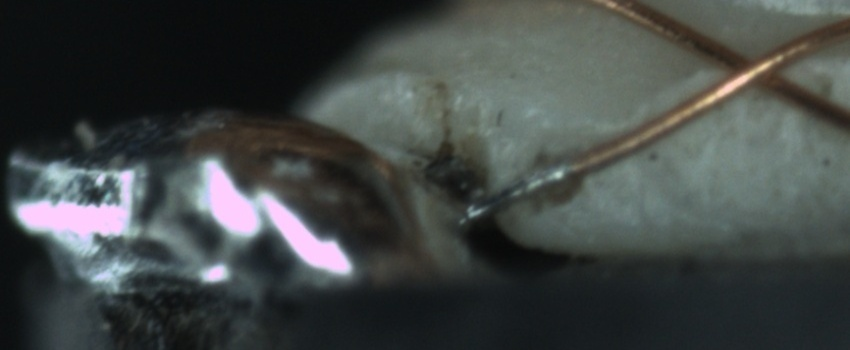CL: (692, 33, 798, 104)
TS: (461, 156, 575, 224)
